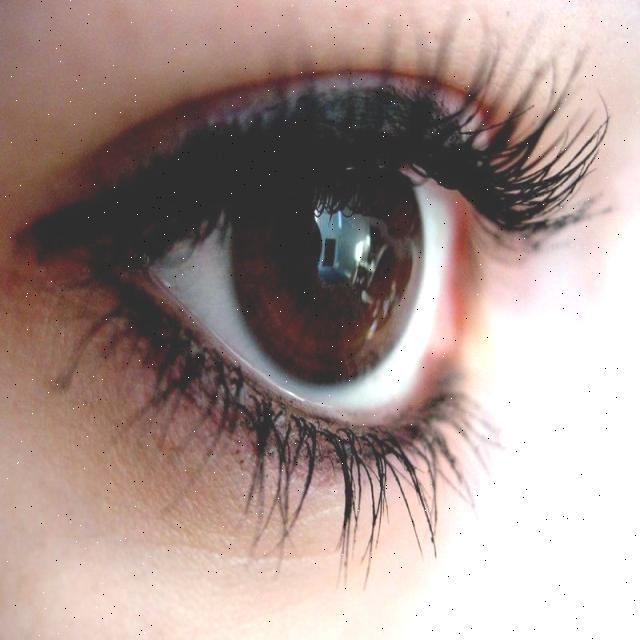Normal: (9, 26, 616, 594)
